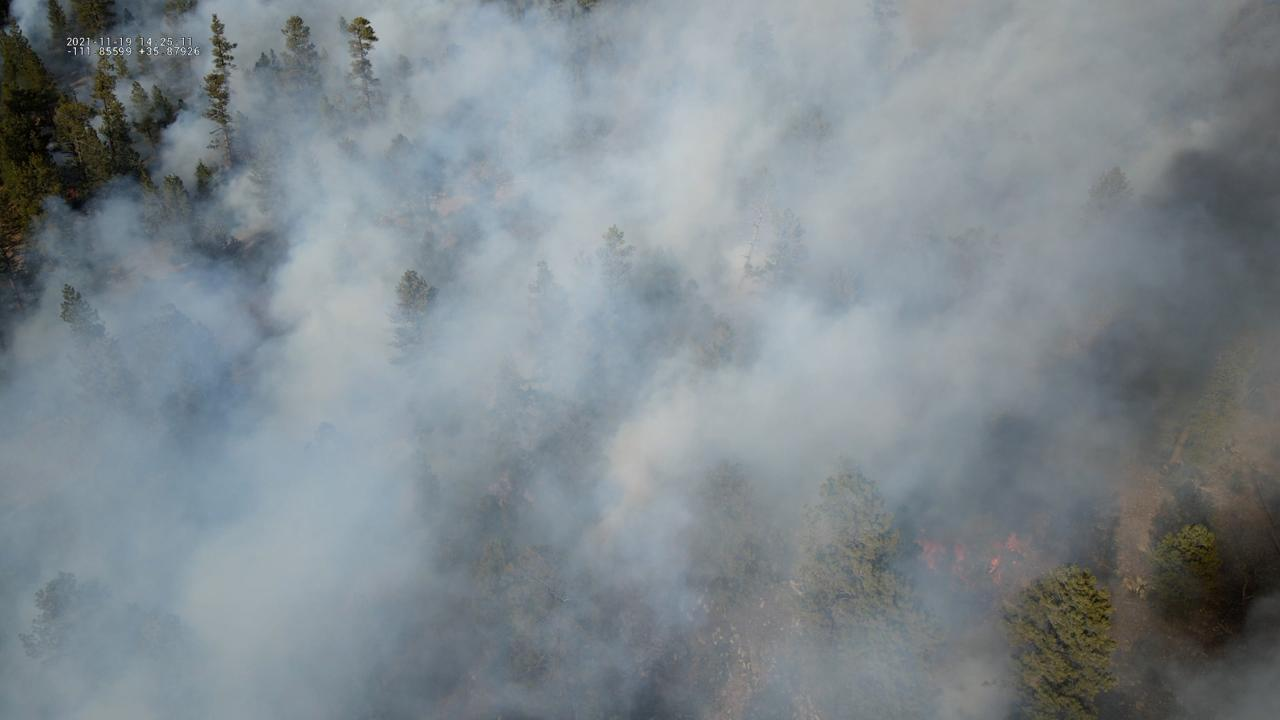fire: (909, 537, 967, 583), (987, 529, 1018, 586), (64, 186, 82, 201)
smoke: (0, 0, 1280, 720)
